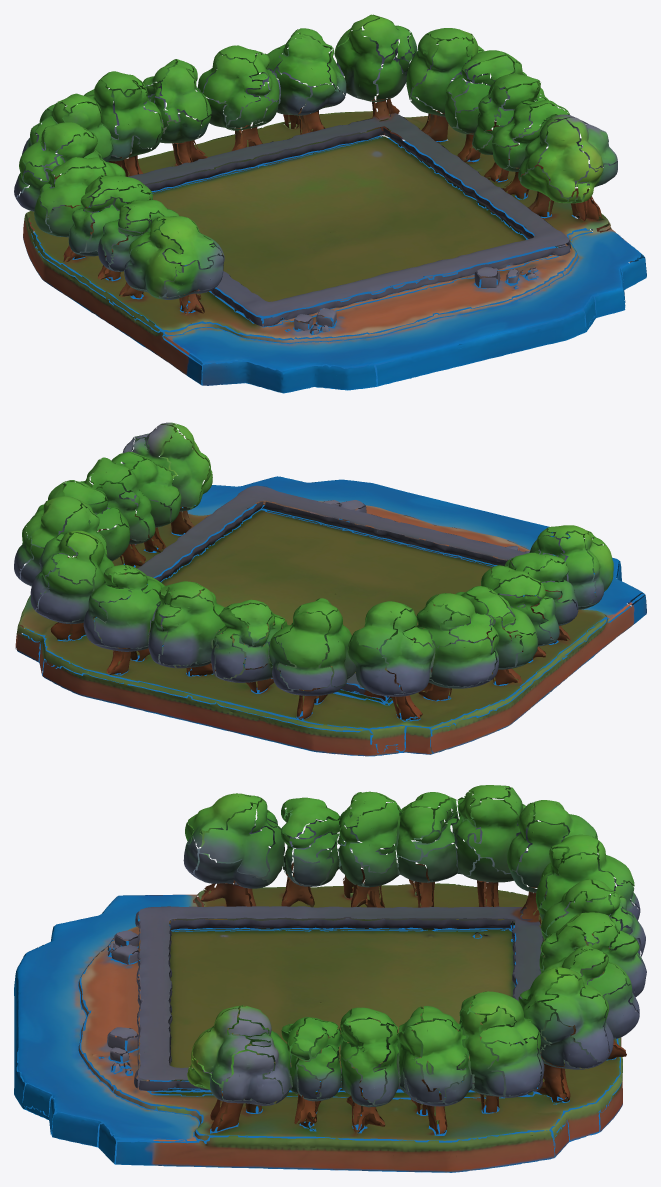
File: square_base_lod.glb
3 views of the same model, one above another, from view 1: azimuth 30°, elevation 25°; view 2: azimuth 150°, elevation 25°; view 3: azimuth 270°, elevation 25° (orthographic). The views are drawn at different scales.
Size of the model in its own units: 2 by 0.5163 by 1.95.
1 material, 1 textured.
